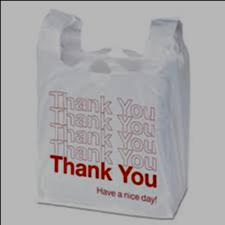Plastic: (28, 4, 196, 224)
